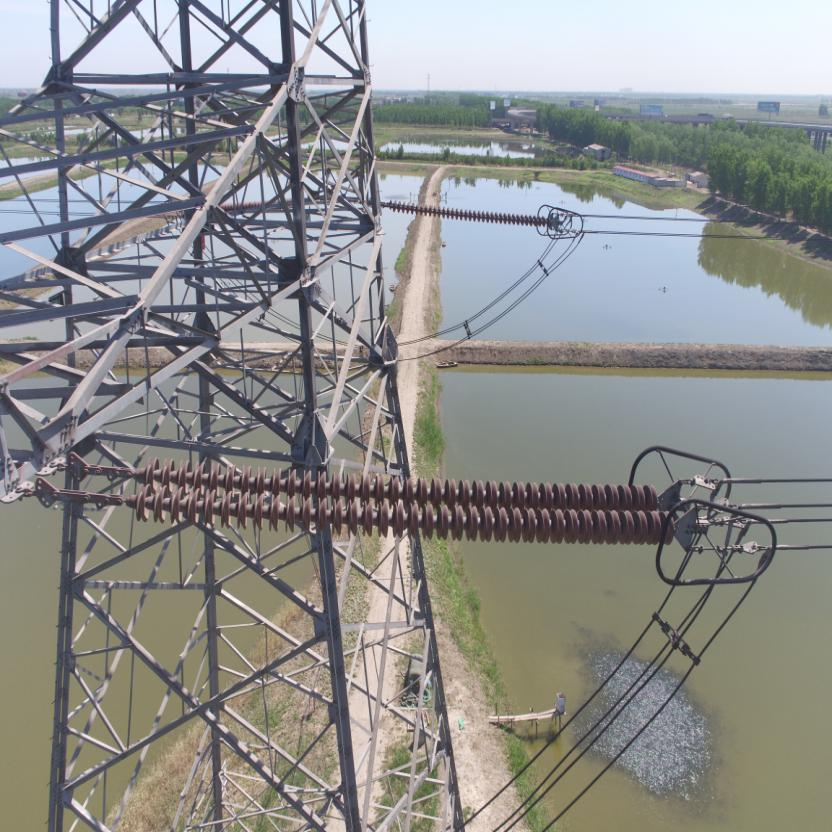insulator: (100, 454, 682, 545), (380, 198, 554, 230)
